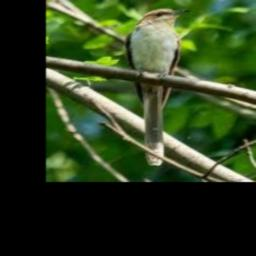Cuckoo: (125, 9, 192, 163)
